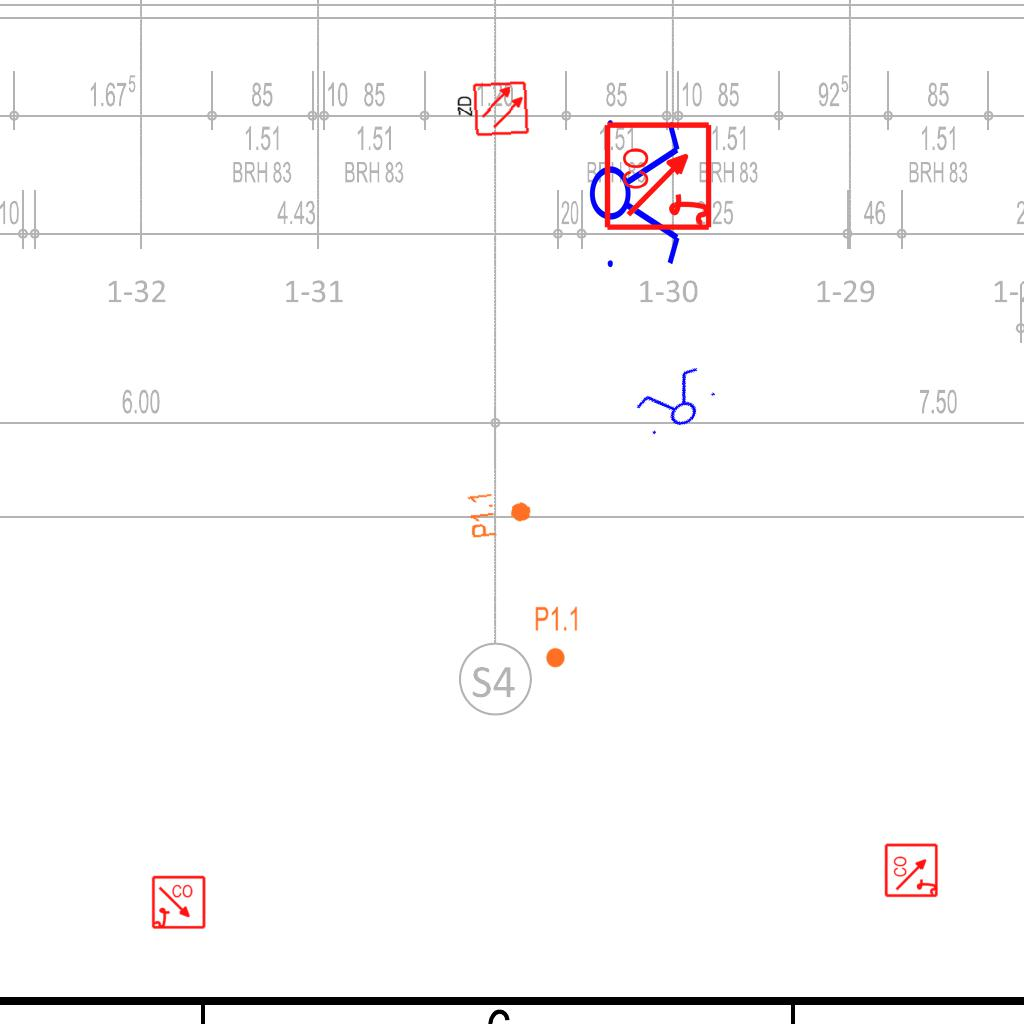Downlight_LED_Einbauleuchten_Flur: (465, 486, 535, 540), (534, 605, 580, 669)
ROA_Rauchmelder_optisch_mit_Signalgeber_(Sockelsirene): (603, 119, 716, 232), (884, 842, 940, 898), (151, 875, 207, 931)
Serienschalter: (588, 108, 684, 276), (627, 359, 725, 447)
ZD_Melder_in_Zwischendecke_mit_Revisionsoeffnung_mind_40_x_40_cm: (453, 79, 530, 141)
